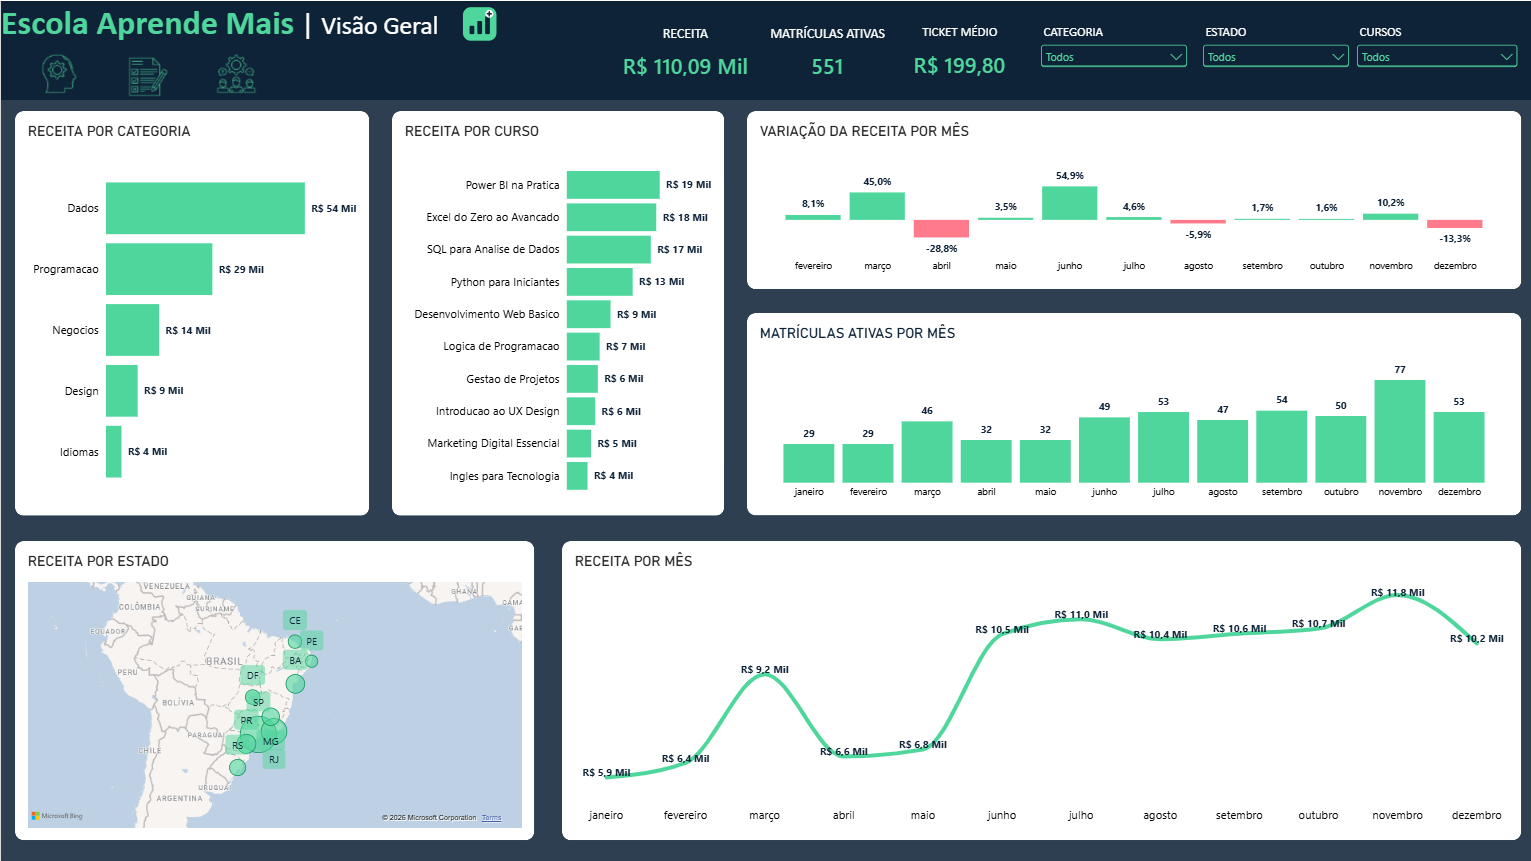

The dashboard page shown, as its layout file describes it:
{"tool":"powerbi","page":{"name":"visão geral","canvas":[1920,1080],"ordinal":0},"visuals":[{"type":"textbox","box":[0,0,1919.4,124],"z":0},{"type":"shape","box":[17.9,137.8,443.8,507.2],"z":1},{"type":"shape","box":[489.3,137.8,416.3,507.2],"z":2},{"type":"shape","box":[934.5,137.8,970.3,223.3],"z":3},{"type":"shape","box":[17.9,676.8,650.6,374.9],"z":4},{"type":"shape","box":[934.5,391.4,970.3,253.6],"z":5},{"type":"shape","box":[702.9,676.8,1201.9,374.9],"z":6},{"type":"cardVisual","title":"RECEITA","fields":{"Data":["matriculas.receita"]},"box":[760.8,28.9,194.1,66],"z":7},{"type":"cardVisual","title":"MATRÍCULAS ATIVAS","fields":{"Data":["matriculas.matriculas ativas"]},"box":[955.2,28.9,161.7,66],"z":8},{"type":"cardVisual","title":"TICKET MÉDIO","fields":{"Data":["matriculas.ticket médio"]},"box":[1116.4,28.9,169.5,66],"z":9},{"type":"slicer","title":"CATEGORIA","fields":{"Values":["cursos.categoria"]},"box":[1298.4,28.9,192.8,75],"z":10},{"type":"slicer","title":"CATEGORIA","fields":{"Values":["alunos.estado"]},"box":[1501,28.8,192.8,75],"z":11},{"type":"slicer","title":"CATEGORIA","fields":{"Values":["cursos.nome_curso"]},"box":[1693.9,28.8,210.9,75],"z":12},{"type":"map","title":"RECEITA POR ESTADO","fields":{"Category":["alunos.estado"],"Size":["matriculas.receita"],"X":["Min(alunos.estado)"],"Y":["Min(alunos.estado)"]},"box":[17.9,676.8,650.6,374.9],"z":13},{"type":"barChart","title":"RECEITA POR CATEGORIA","fields":{"Category":["cursos.categoria"],"Y":["matriculas.receita"]},"box":[17.9,137.8,443.8,507.2],"z":14},{"type":"lineChart","title":"RECEITA POR MÊS","fields":{"Category":["Calendario.Date.Variação.Hierarquia de datas.Mês"],"Y":["matriculas.receita"]},"box":[702.9,676.8,1201.9,374.9],"z":15},{"type":"barChart","title":"RECEITA POR CURSO","fields":{"Category":["cursos.nome_curso"],"Y":["matriculas.receita"]},"box":[489.3,137.8,416.3,507.2],"z":16},{"type":"clusteredColumnChart","title":"MATRÍCULAS ATIVAS POR MÊS","fields":{"Category":["Calendario.Date.Variação.Hierarquia de datas.Mês"],"Y":["matriculas.matriculas ativas"]},"box":[934.5,391.4,970.3,253.6],"z":17},{"type":"columnChart","title":"VARIAÇÃO DA RECEITA POR MÊS","fields":{"Category":["Calendario.Date.Variação.Hierarquia de datas.Mês"],"Y":["Calendario.var % mes"]},"box":[934.5,137.8,970.3,223.3],"z":18},{"type":"actionButton","box":[17.2,62.7,111.3,58],"z":19},{"type":"actionButton","box":[239.3,62.6,111.3,58],"z":20},{"type":"actionButton","box":[129,66.4,111.3,58],"z":21},{"type":"image","box":[551.3,6.3,96.5,45.1],"z":22}]}

Visuals, with their boxes in screenshot pixels (x1, y1, x2, y2), scaled from the page's 1920x1080 canvas onto the 1531x861 screenshot:
textbox: (left=0, top=0, right=1530, bottom=99)
shape: (left=14, top=110, right=368, bottom=514)
shape: (left=390, top=110, right=722, bottom=514)
shape: (left=745, top=110, right=1519, bottom=288)
shape: (left=14, top=540, right=533, bottom=838)
shape: (left=745, top=312, right=1519, bottom=514)
shape: (left=560, top=540, right=1519, bottom=838)
"RECEITA" cardVisual: (left=607, top=23, right=761, bottom=76)
"MATRÍCULAS ATIVAS" cardVisual: (left=762, top=23, right=891, bottom=76)
"TICKET MÉDIO" cardVisual: (left=890, top=23, right=1025, bottom=76)
"CATEGORIA" slicer: (left=1035, top=23, right=1189, bottom=83)
"CATEGORIA" slicer: (left=1197, top=23, right=1351, bottom=83)
"CATEGORIA" slicer: (left=1351, top=23, right=1519, bottom=83)
"RECEITA POR ESTADO" map: (left=14, top=540, right=533, bottom=838)
"RECEITA POR CATEGORIA" barChart: (left=14, top=110, right=368, bottom=514)
"RECEITA POR MÊS" lineChart: (left=560, top=540, right=1519, bottom=838)
"RECEITA POR CURSO" barChart: (left=390, top=110, right=722, bottom=514)
"MATRÍCULAS ATIVAS POR MÊS" clusteredColumnChart: (left=745, top=312, right=1519, bottom=514)
"VARIAÇÃO DA RECEITA POR MÊS" columnChart: (left=745, top=110, right=1519, bottom=288)
actionButton: (left=14, top=50, right=102, bottom=96)
actionButton: (left=191, top=50, right=280, bottom=96)
actionButton: (left=103, top=53, right=192, bottom=99)
image: (left=440, top=5, right=517, bottom=41)
